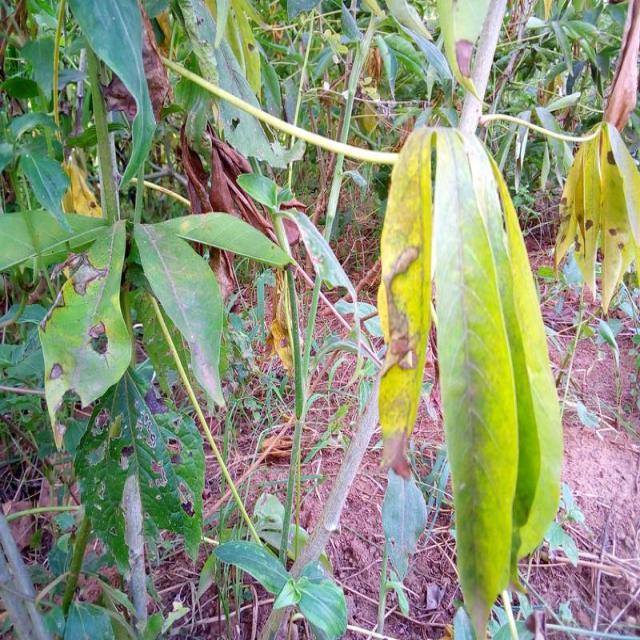cassava leaf: (376, 122, 563, 636), (430, 126, 519, 637), (37, 218, 134, 450), (132, 218, 226, 410)
